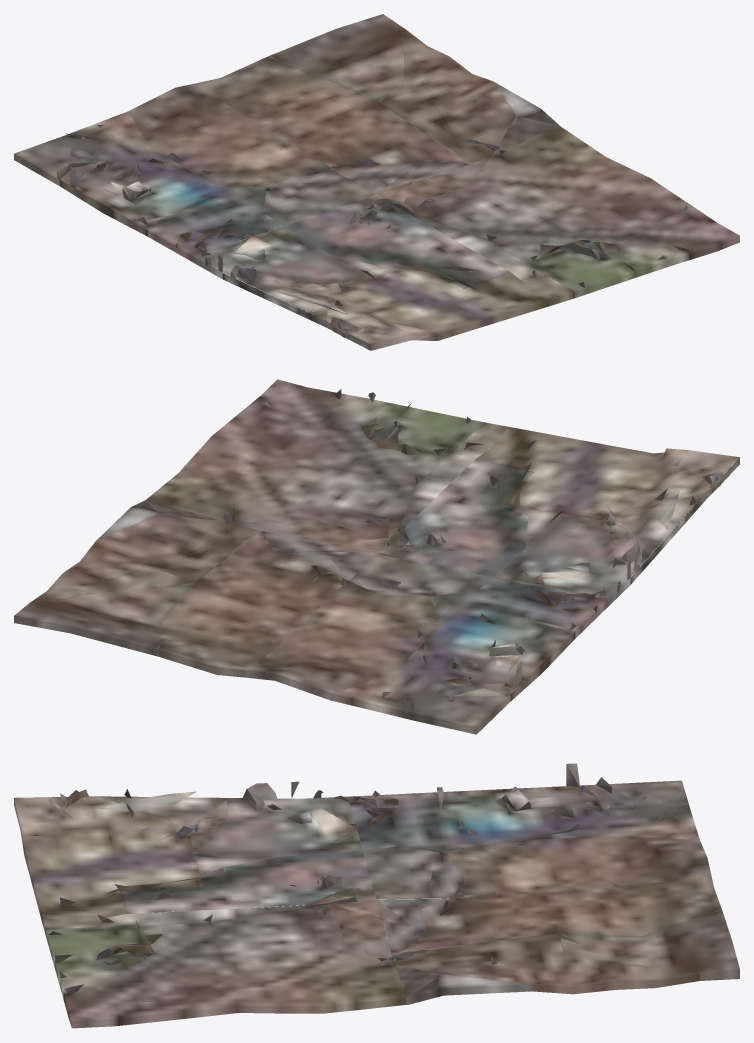
3 renders of one model, top to bottom at view 1: azimuth 30°, elevation 25°; view 2: azimuth 150°, elevation 25°; view 3: azimuth 270°, elevation 25°, orthographic. The views are drawn at different scales.
Visible parts, largest first — view 1: Mesh_0; view 2: Mesh_0; view 3: Mesh_0.
Boxes of the visible parts, left/top/right/bottom form: Mesh_0: left=14, top=14, right=739, bottom=350; Mesh_0: left=14, top=379, right=739, bottom=734; Mesh_0: left=14, top=763, right=739, bottom=1028.
Bounding box in the file's own units: 1064 × 74.31 × 1317.
Materials: 1 (1 with a texture image).
